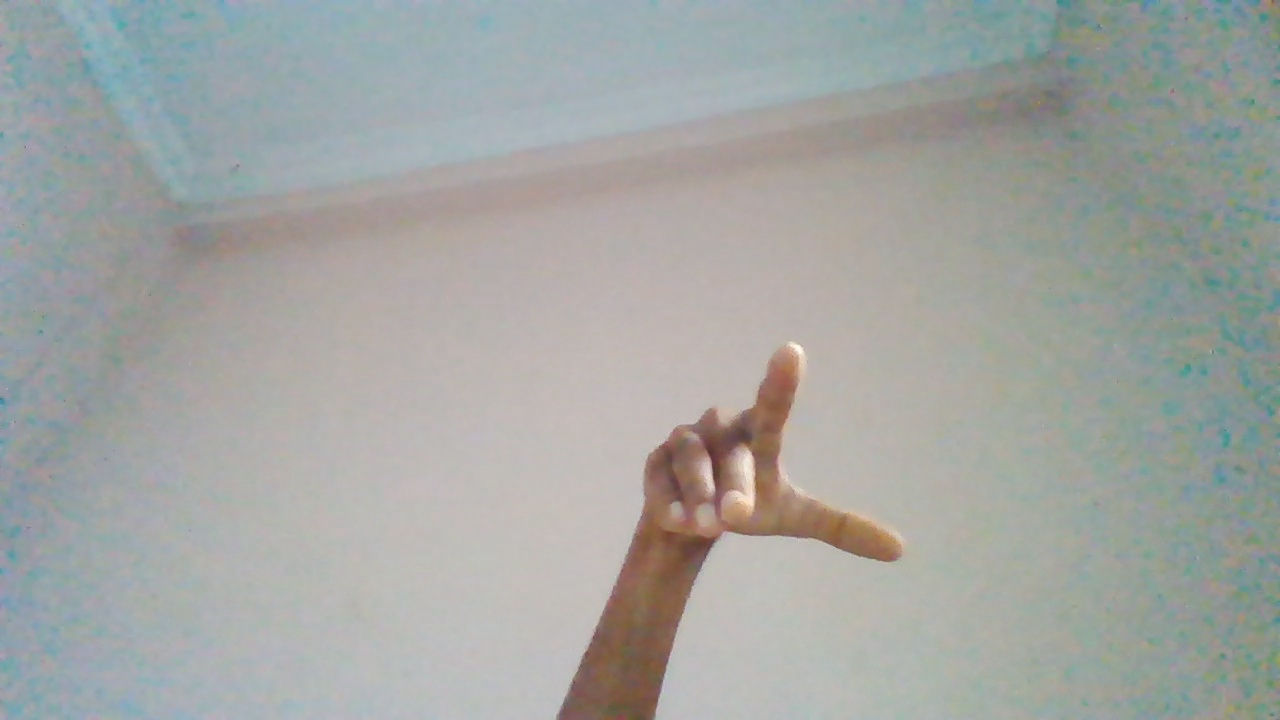ke: (634, 339, 909, 706)
